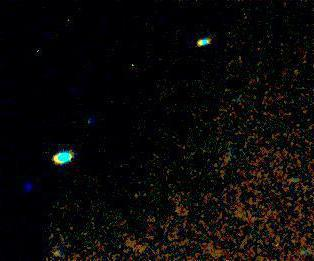star: (59, 74, 89, 104)
